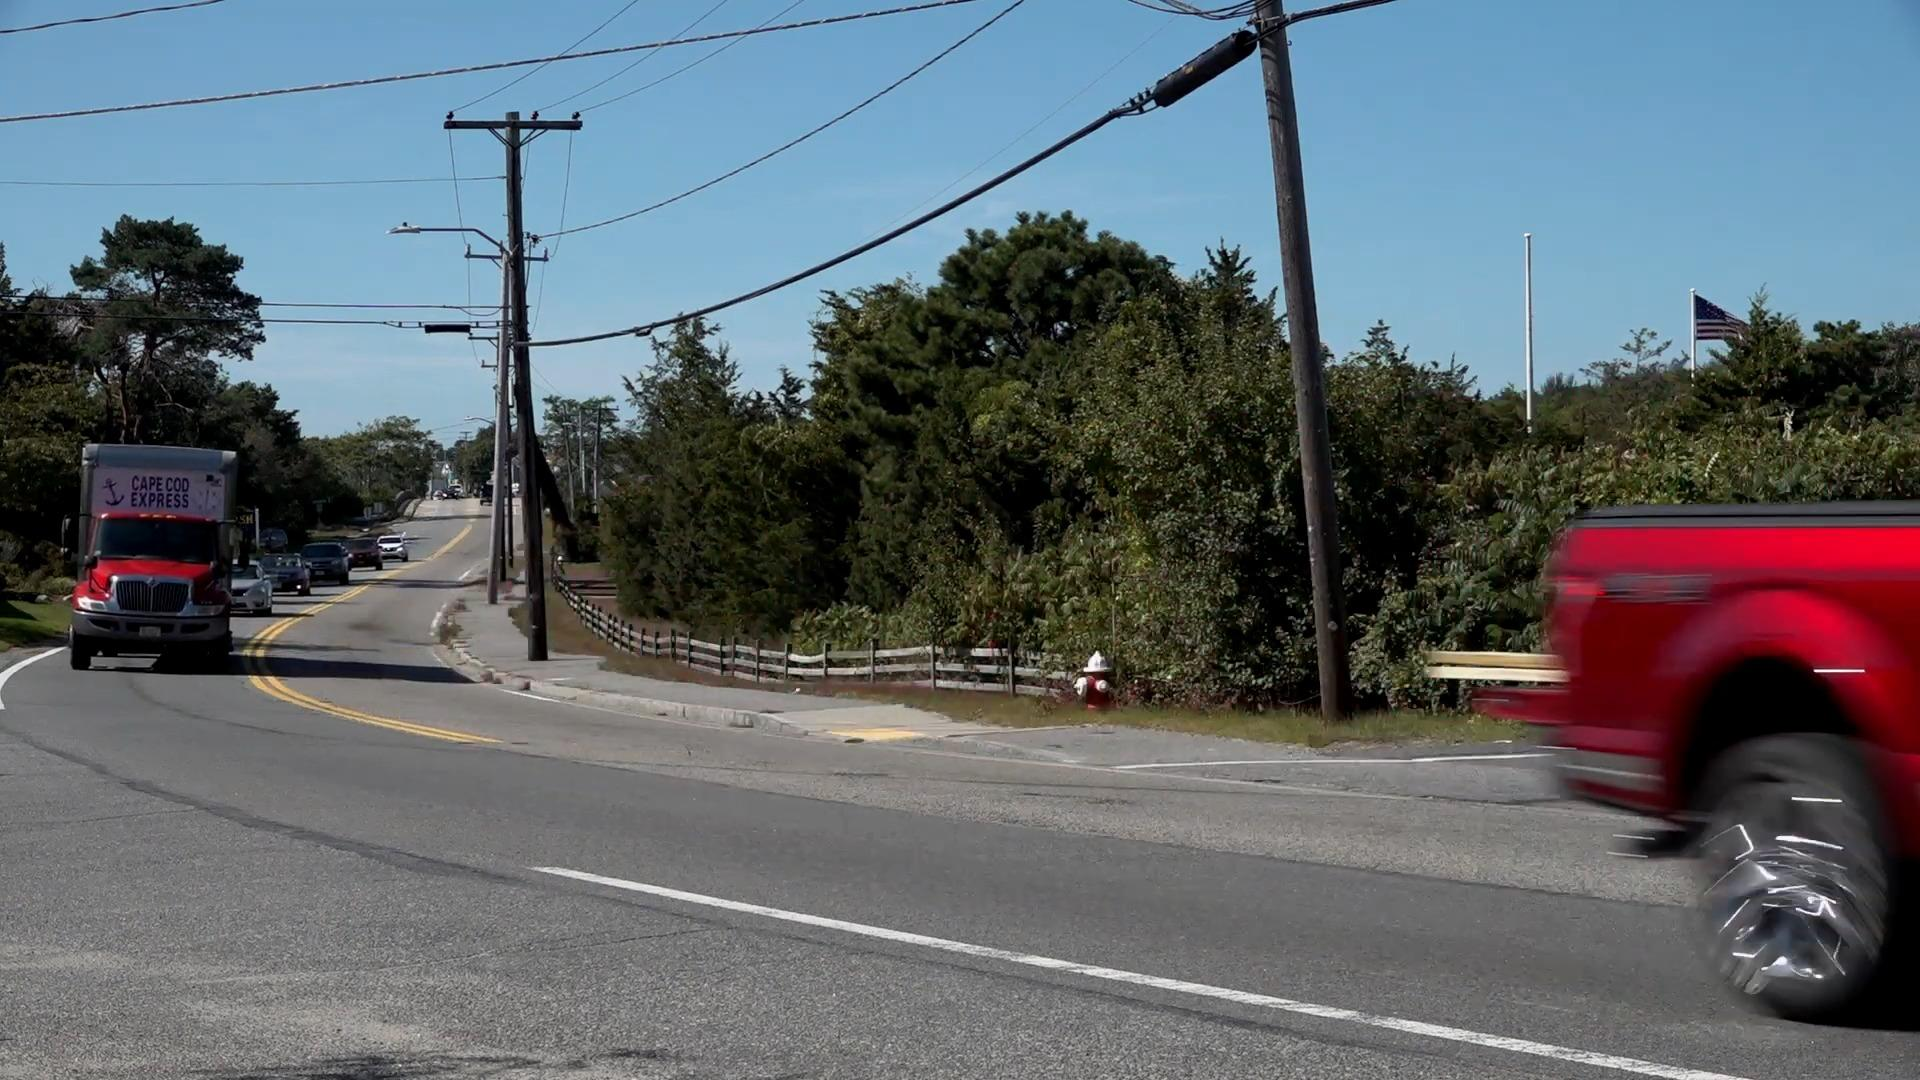pickup: (1444, 501, 1920, 1024)
truck: (64, 434, 243, 680)
